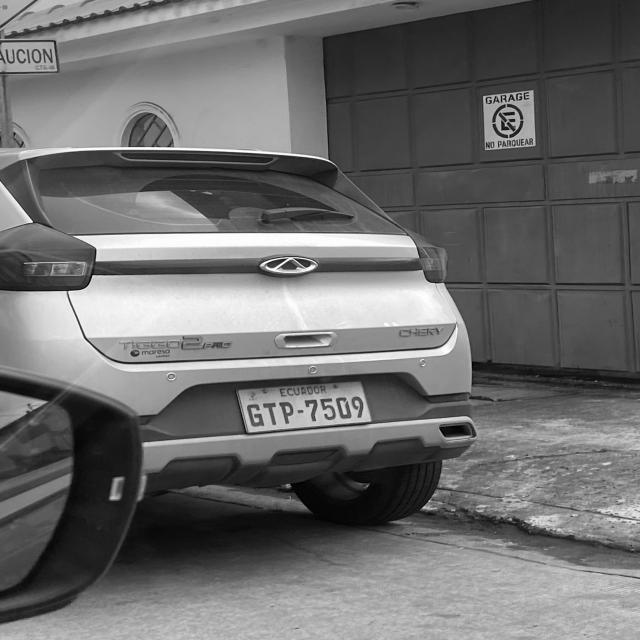Placa: (237, 382, 370, 433)
